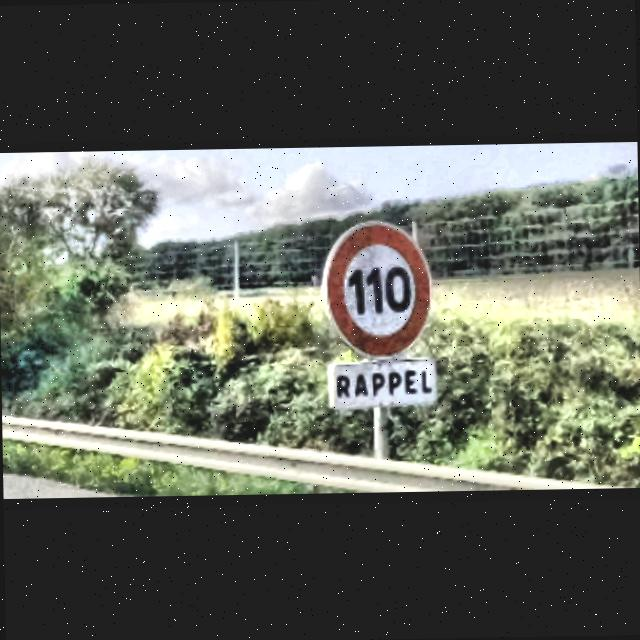speed_110: (321, 218, 434, 362)
